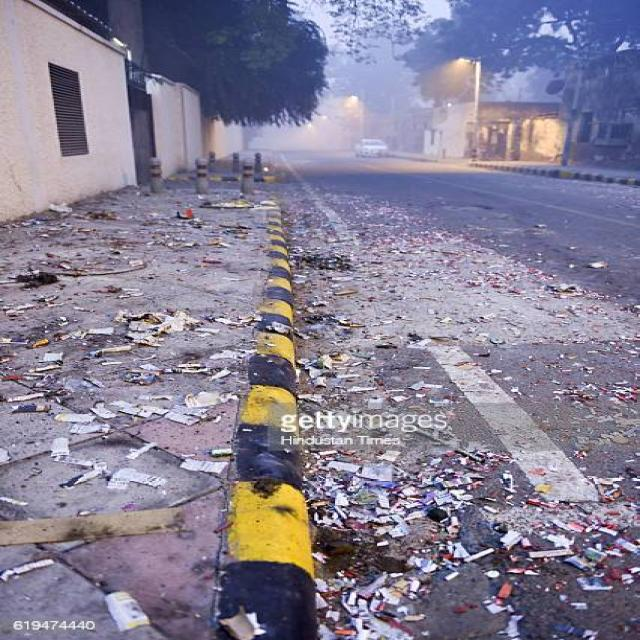garbage: (0, 161, 640, 640)
